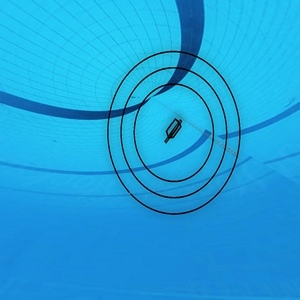circle: (101, 43, 240, 218)
submarine: (163, 116, 188, 143)
